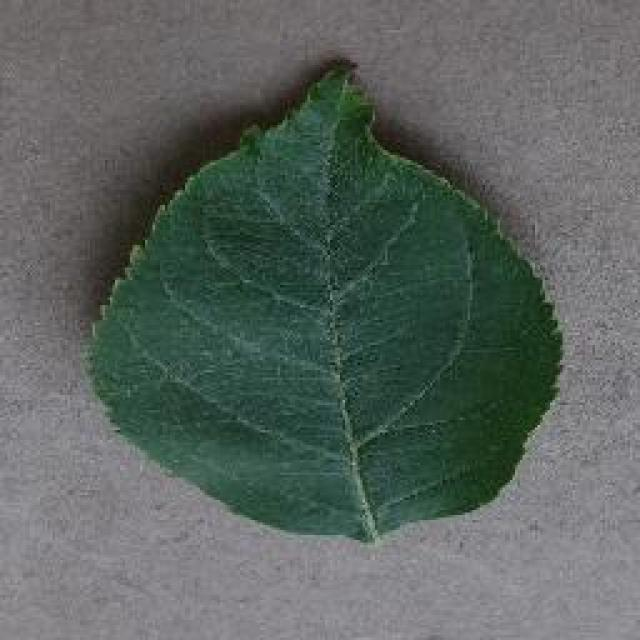apple healthy: (80, 55, 565, 545)
